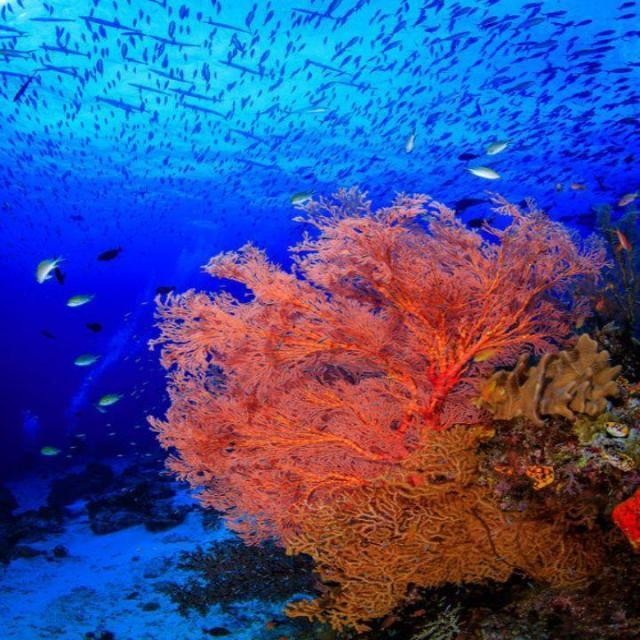Healthy Coral: (144, 200, 624, 615)
